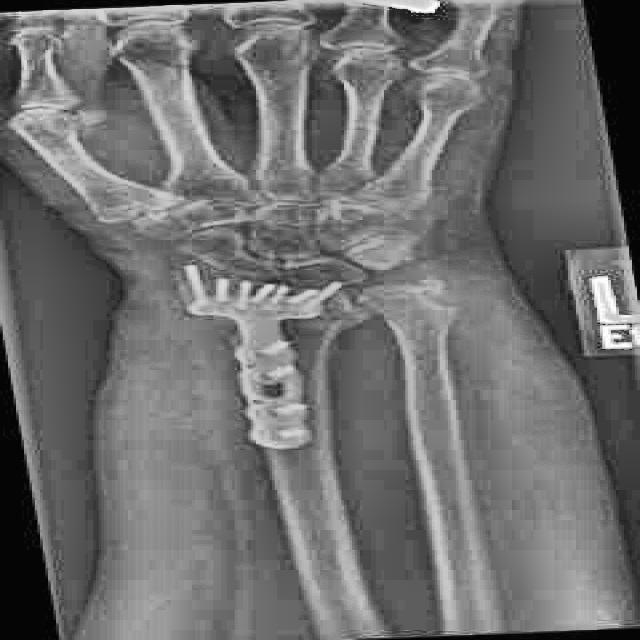fingers positive: (168, 276, 395, 348)
